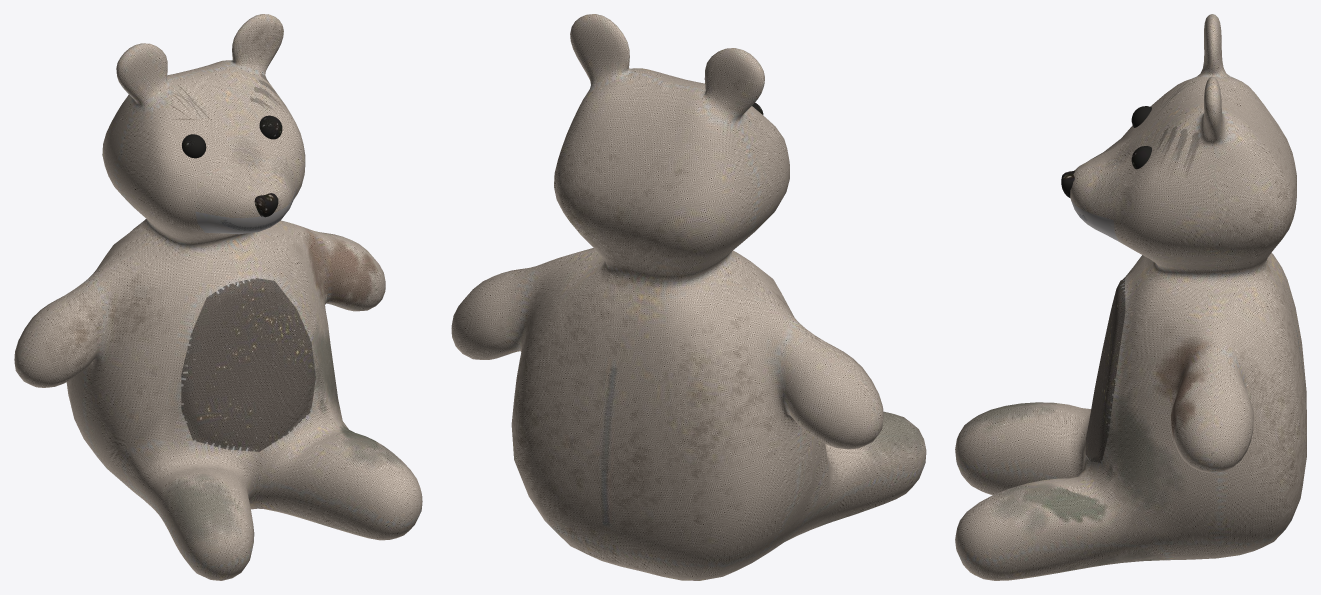
3 views of the same model, side by side, from view 1: azimuth 30°, elevation 25°; view 2: azimuth 150°, elevation 25°; view 3: azimuth 270°, elevation 25° (orthographic). The views are drawn at different scales.
Visible parts, largest first — view 1: TeddyBear; view 2: TeddyBear; view 3: TeddyBear.
Boxes of the visible parts, left/top/right/bottom form: TeddyBear: left=14, top=14, right=422, bottom=580; TeddyBear: left=451, top=14, right=926, bottom=580; TeddyBear: left=955, top=14, right=1306, bottom=580.
Size of the model in its own units: 1.67 by 2 by 1.3.
Materials: 1 (1 with a texture image).
